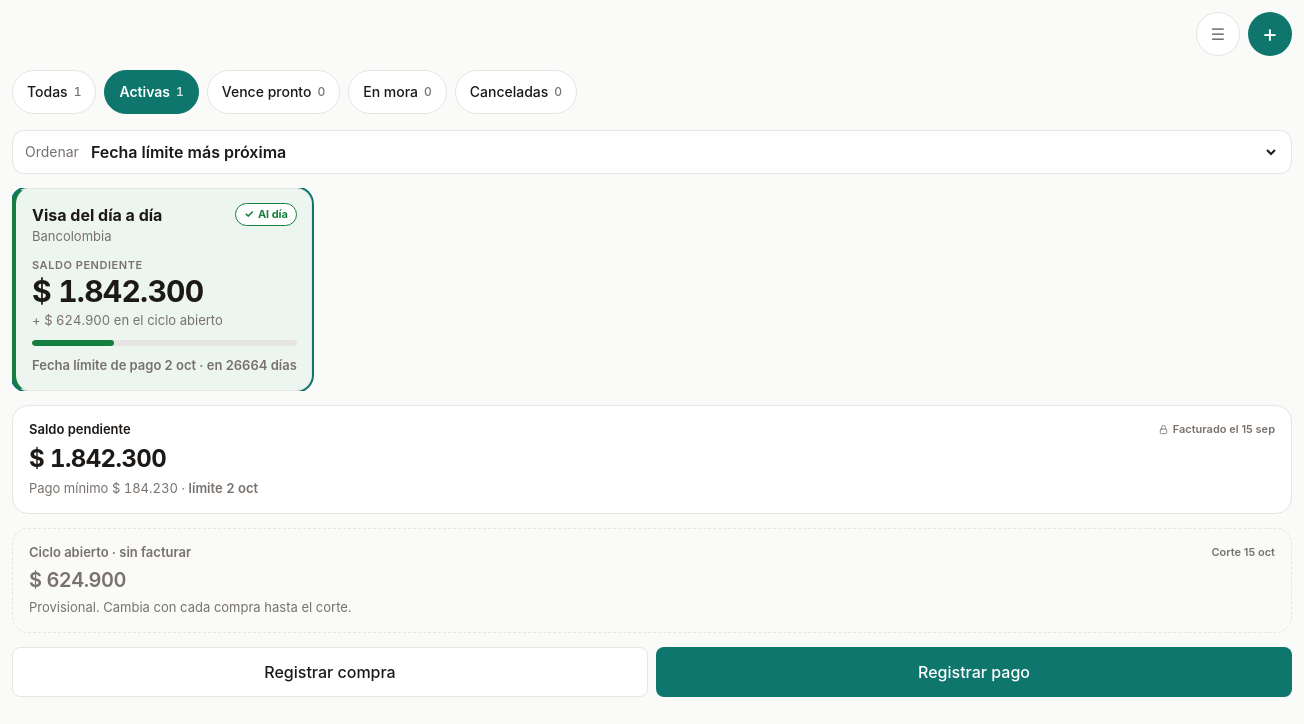
CardsPanel › explains when a filter matches no card
Expected: the element "Visa del día a día" is shown, [12,188,312,390]
Click the radio button labelled "Canceladas 0". click: [516, 92]
box: [455,70,577,114]
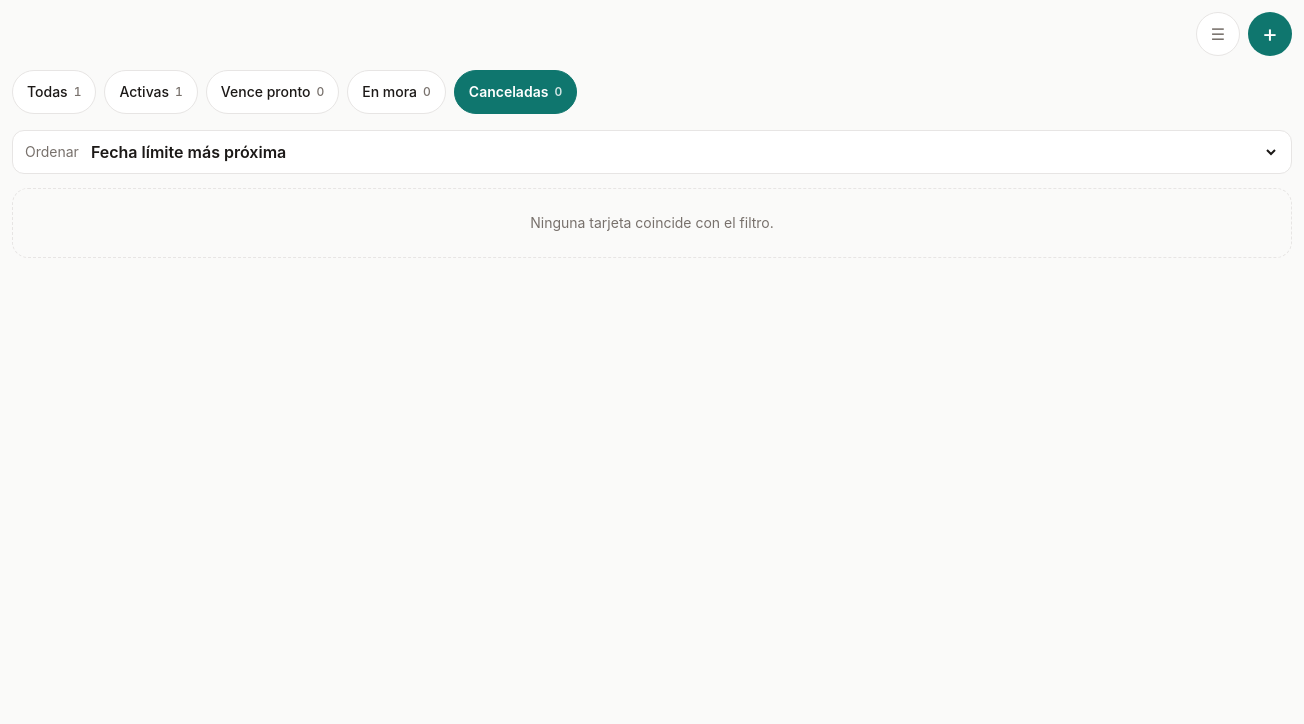
Expected: the text "Ninguna tarjeta coincide con el filtro." is shown, [12,188,1292,258]
